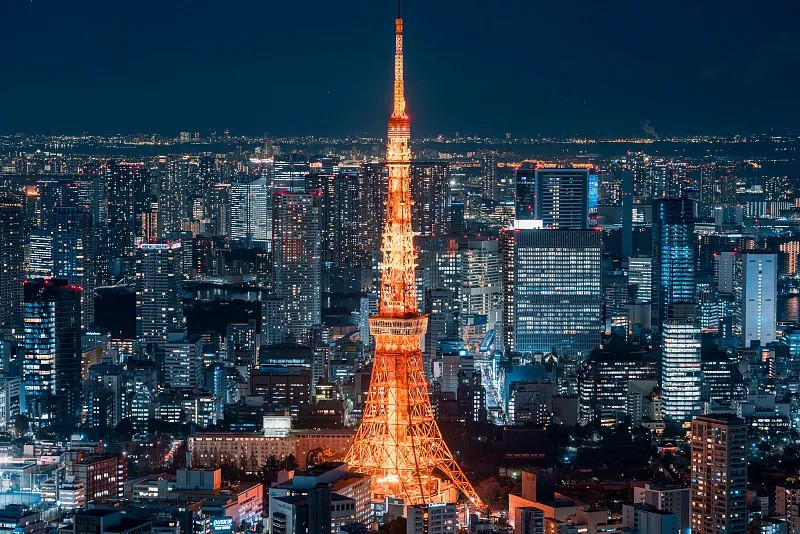Tokyo: (334, 1, 486, 516)
